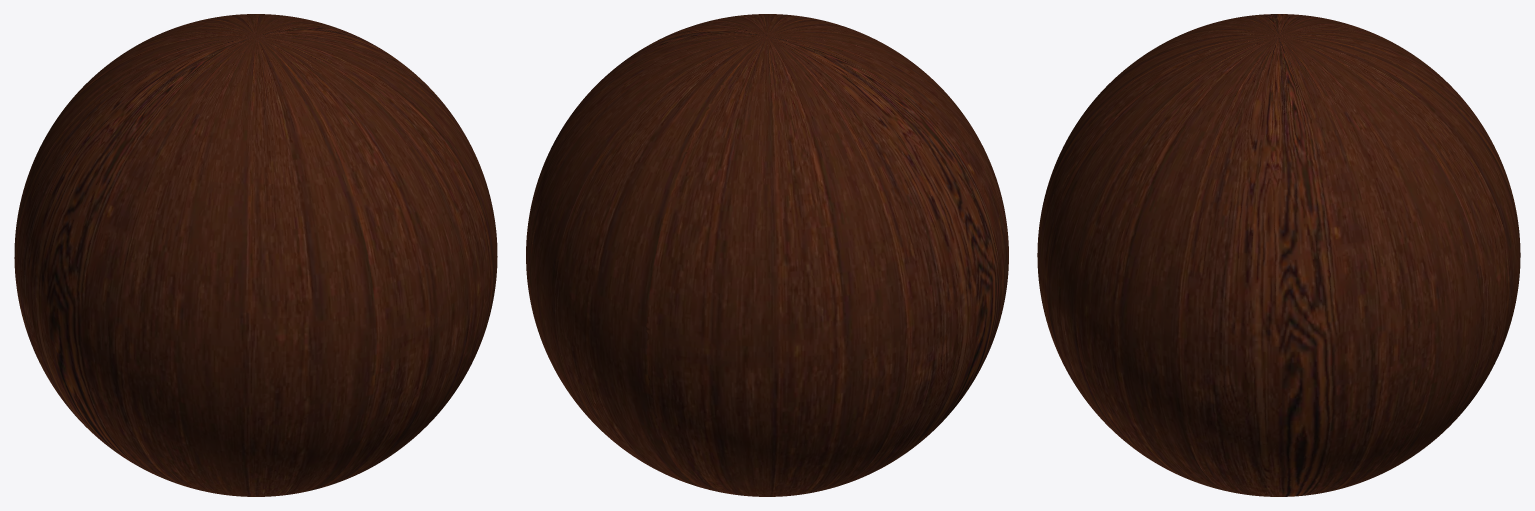
Rendered from wood_table_001.glb.
3 renders of one model, left to right at view 1: azimuth 30°, elevation 25°; view 2: azimuth 150°, elevation 25°; view 3: azimuth 270°, elevation 25°, orthographic.
Visible parts, largest first — view 1: sphere_gltf; view 2: sphere_gltf; view 3: sphere_gltf.
Part boxes in pixels (x1,y1,x2,y2): sphere_gltf: [14, 14, 497, 496]; sphere_gltf: [526, 14, 1008, 496]; sphere_gltf: [1037, 14, 1520, 496].
Size of the model in its own units: 1.5 by 1.5 by 1.5.
Materials: 1 (1 with a texture image).
